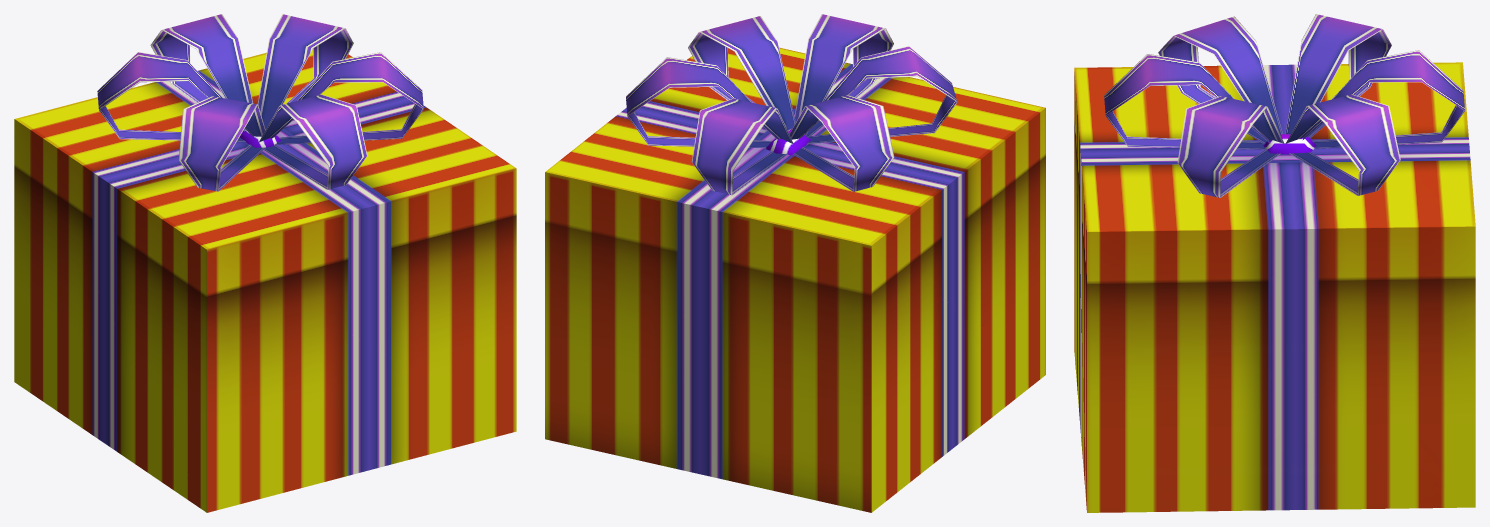
Rendered from Gift11.FBX.
3 views of the same model, side by side, from view 1: azimuth 30°, elevation 25°; view 2: azimuth 150°, elevation 25°; view 3: azimuth 270°, elevation 25° (orthographic). The views are drawn at different scales.
Visible parts, largest first — view 1: Gift11; view 2: Gift11; view 3: Gift11.
Boxes of the visible parts, x1,y1,x2,y2 form: Gift11: (14, 14, 516, 512); Gift11: (545, 14, 1045, 512); Gift11: (1074, 14, 1475, 512).
Size of the model in its own units: 12.72 by 12.55 by 12.72.
Materials: 1 (1 with a texture image).
